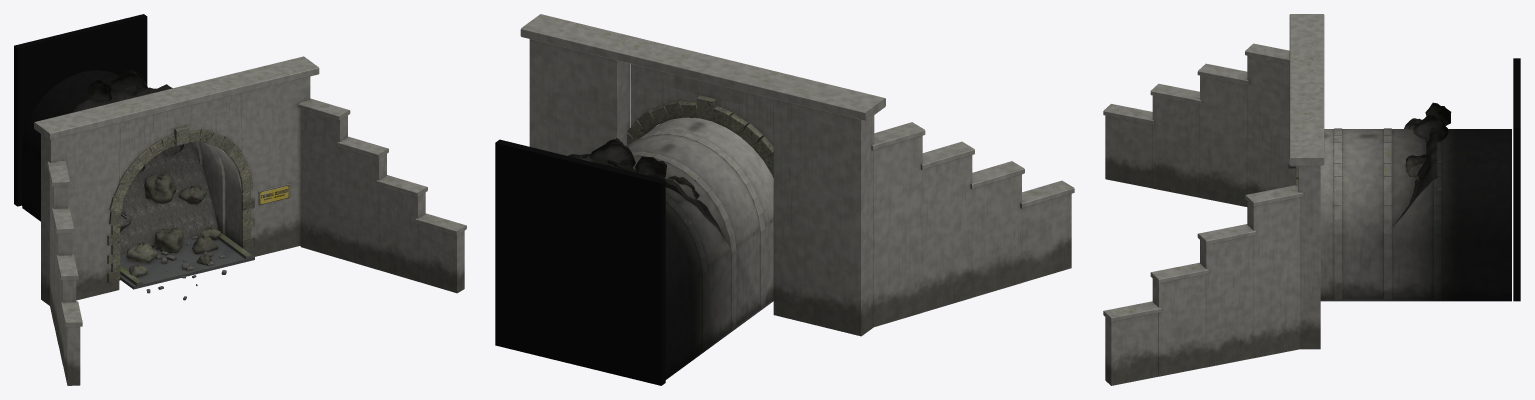
Rendered from tunnel.glb.
3 renders of one model, left to right at view 1: azimuth 30°, elevation 25°; view 2: azimuth 150°, elevation 25°; view 3: azimuth 270°, elevation 25°, orthographic. The views are drawn at different scales.
Visible parts, largest first — view 1: tunnel; view 2: tunnel; view 3: tunnel.
Boxes of the visible parts, x1,y1,x2,y2 form: tunnel: (14, 14, 466, 385); tunnel: (495, 14, 1074, 385); tunnel: (1103, 14, 1520, 385).
Bounding box in the file's own units: 20.42 × 8.62 × 16.8.
Materials: 2 (1 with a texture image).
